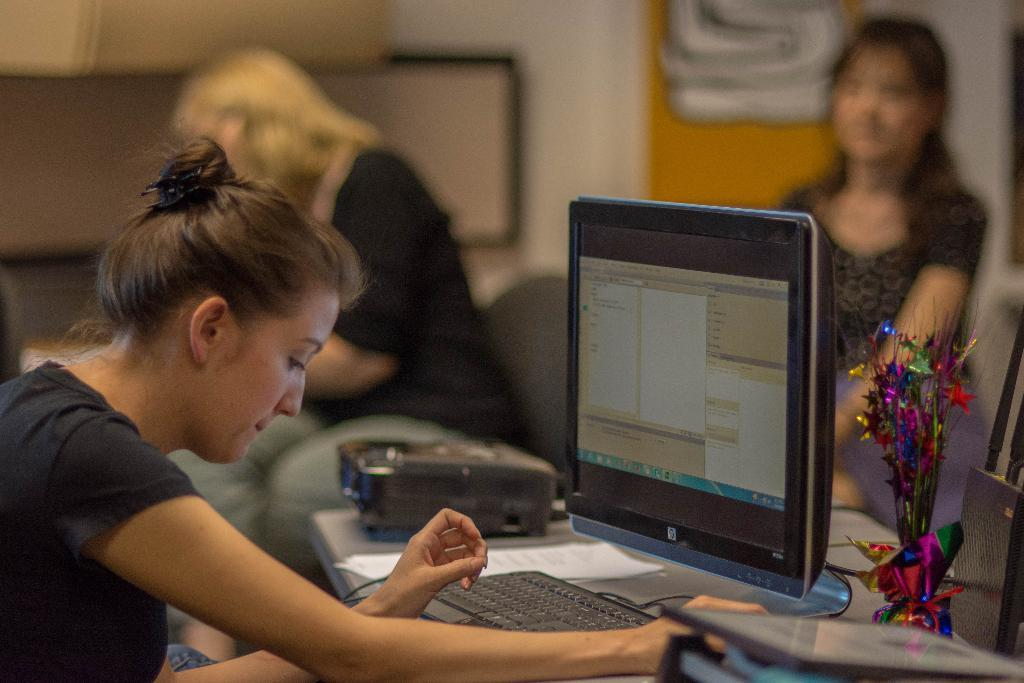Computer-keyboard: (433, 566, 656, 643)
Computer-monitor: (573, 217, 854, 587)
